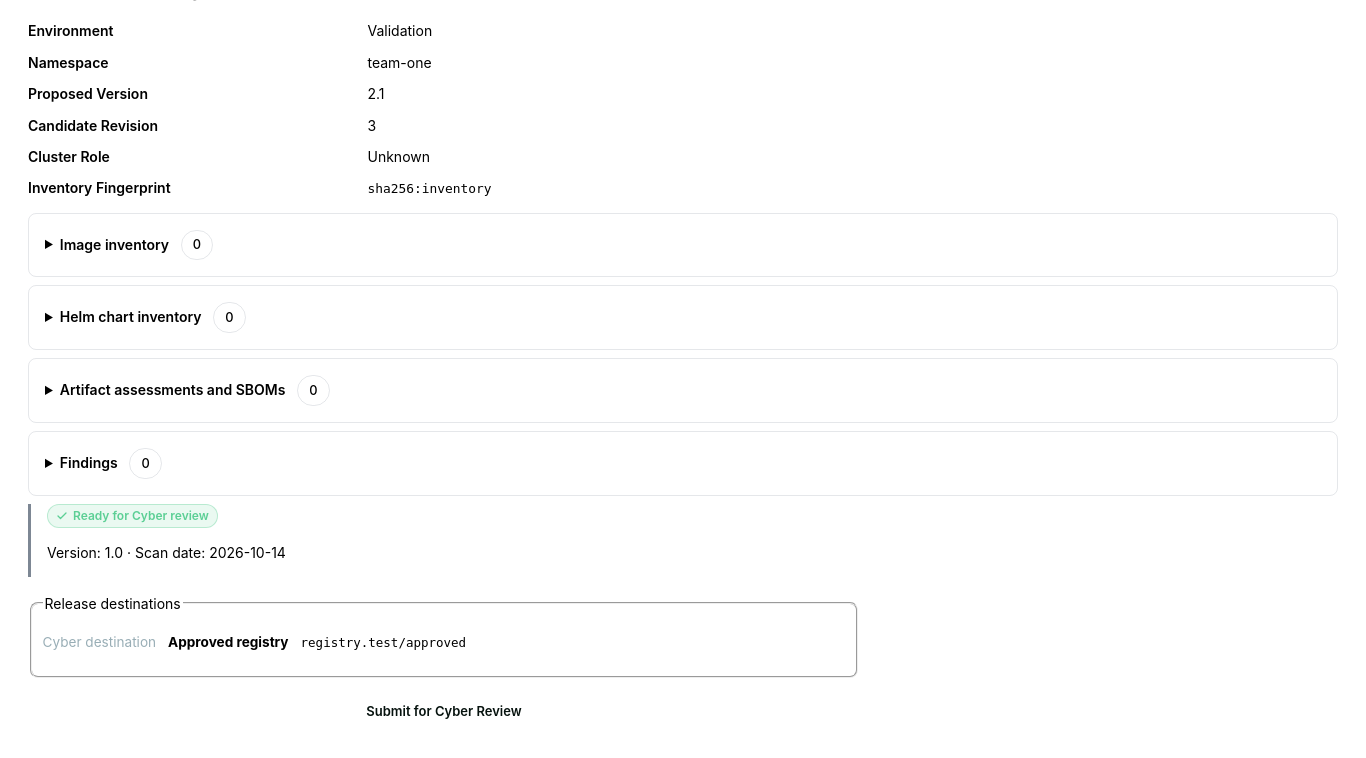
Test case: submits the reviewed runtime evidence using its candidate and digest
The image size is (1366, 758).
(page scrolled)
Expected: the text "Validation" is shown, top-left (368, 22), bottom-right (432, 39)
Click the button "Submit for Cyber Review" at [444, 712], box top-left (28, 694), bottom-right (860, 730)
(page scrolled)
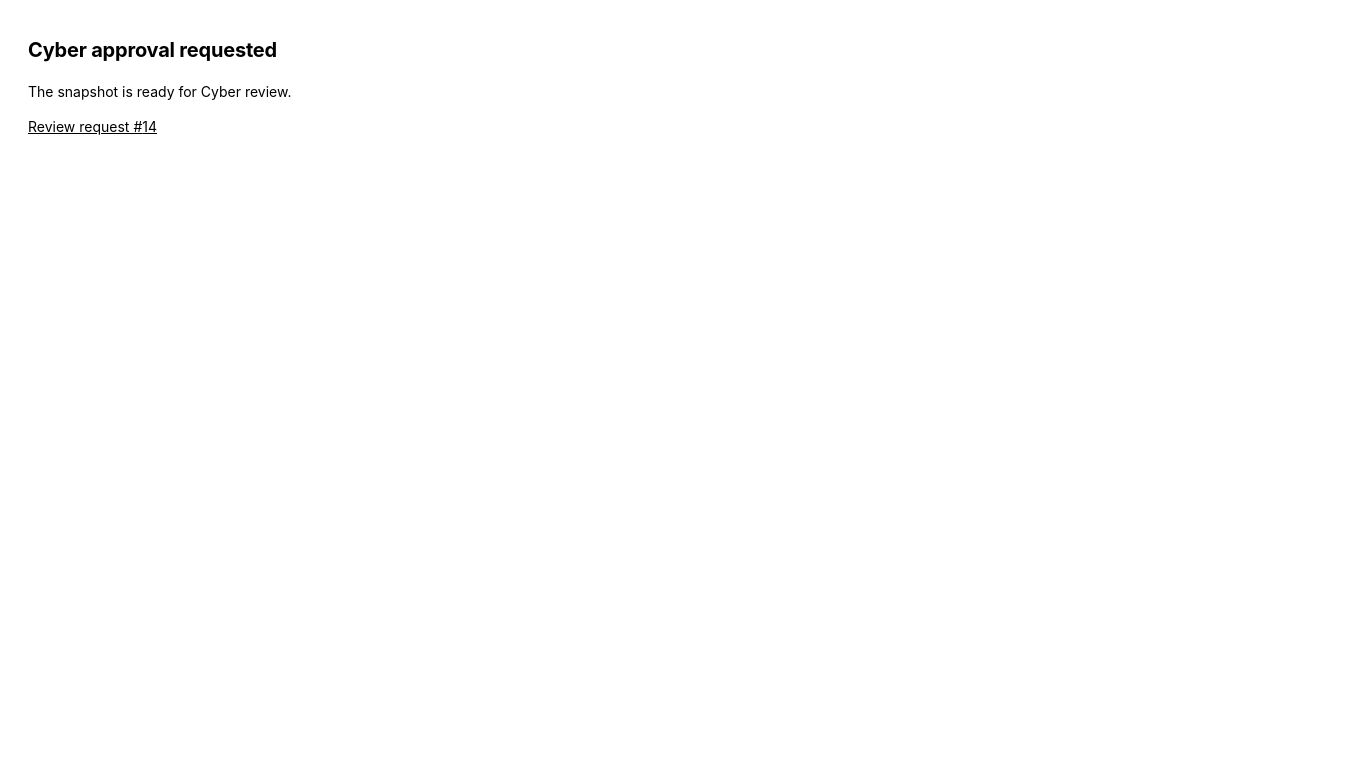
Result: the link "Review request #14" is shown at top-left (28, 118), bottom-right (157, 135)
